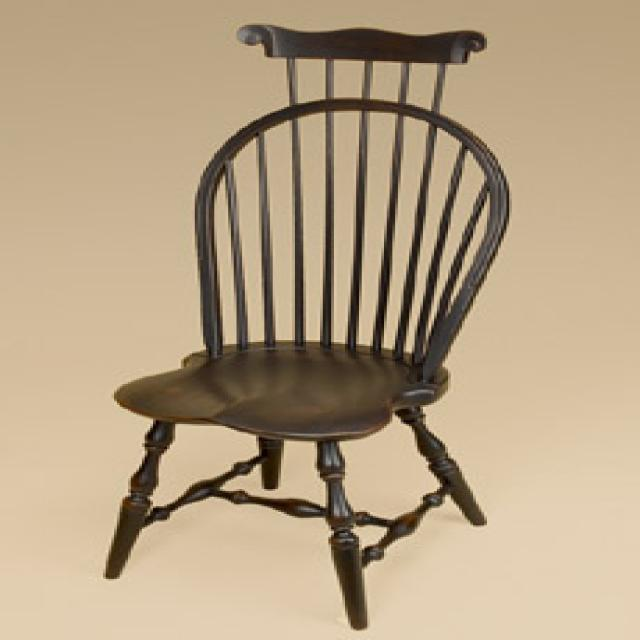chair: (100, 21, 509, 629)
